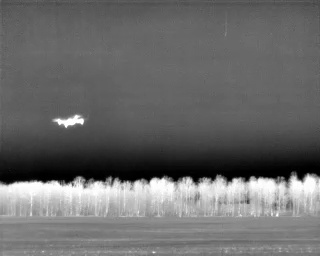DRONE: (49, 109, 91, 133)
